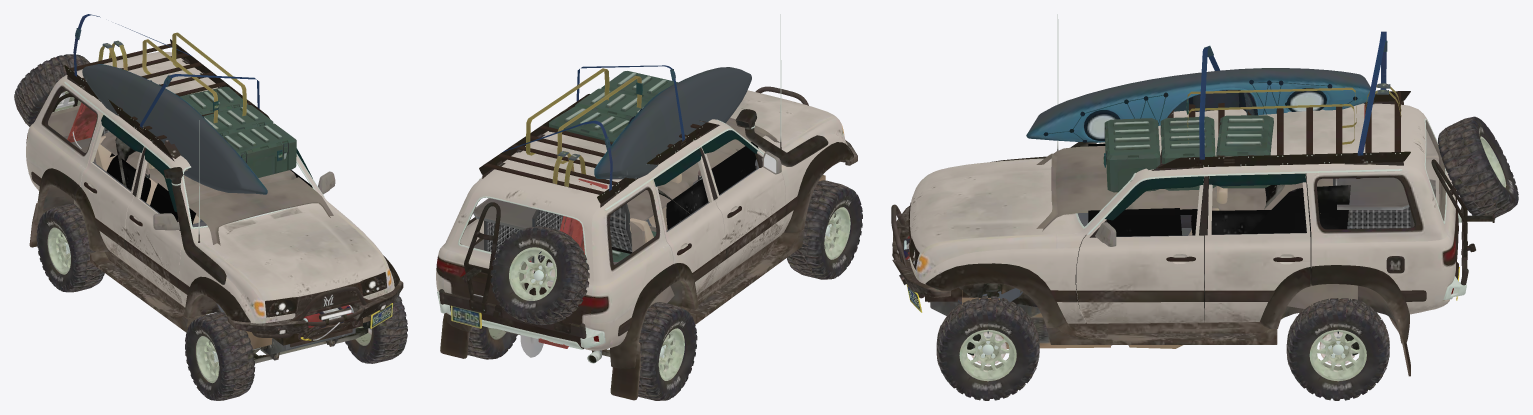
File: overland-explorer.glb
3 renders of one model, left to right at view 1: azimuth 30°, elevation 25°; view 2: azimuth 150°, elevation 25°; view 3: azimuth 270°, elevation 25°, orthographic. The views are drawn at different scales.
Parts seen in each view (by area): view 1: A_Land_Explorer_Free_Part01, A_Land_Explorer_Free_Part02, A_Land_Explorer_Free_Part05, A_Land_Explorer_Free_Part04; view 2: A_Land_Explorer_Free_Part01, A_Land_Explorer_Free_Part02, A_Land_Explorer_Free_Part05; view 3: A_Land_Explorer_Free_Part01, A_Land_Explorer_Free_Part02, A_Land_Explorer_Free_Part05, A_Land_Explorer_Free_Part04.
Boxes of the visible parts, x1,y1,x2,y2 form: A_Land_Explorer_Free_Part01: (14, 14, 407, 400); A_Land_Explorer_Free_Part02: (67, 64, 370, 349); A_Land_Explorer_Free_Part05: (106, 153, 312, 224); A_Land_Explorer_Free_Part04: (115, 137, 135, 186); A_Land_Explorer_Free_Part01: (436, 14, 862, 400); A_Land_Explorer_Free_Part02: (520, 67, 825, 357); A_Land_Explorer_Free_Part05: (612, 142, 758, 253); A_Land_Explorer_Free_Part01: (891, 14, 1518, 400); A_Land_Explorer_Free_Part02: (958, 68, 1375, 348); A_Land_Explorer_Free_Part05: (1088, 143, 1270, 236); A_Land_Explorer_Free_Part04: (1249, 184, 1350, 233).
Size of the model in its own units: 61943 by 80935 by 154455.
3 materials, 3 textured.
